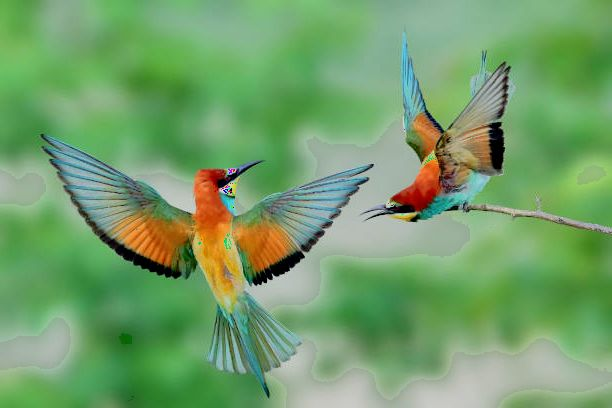Bird: (32, 128, 375, 400), (357, 21, 517, 222)
